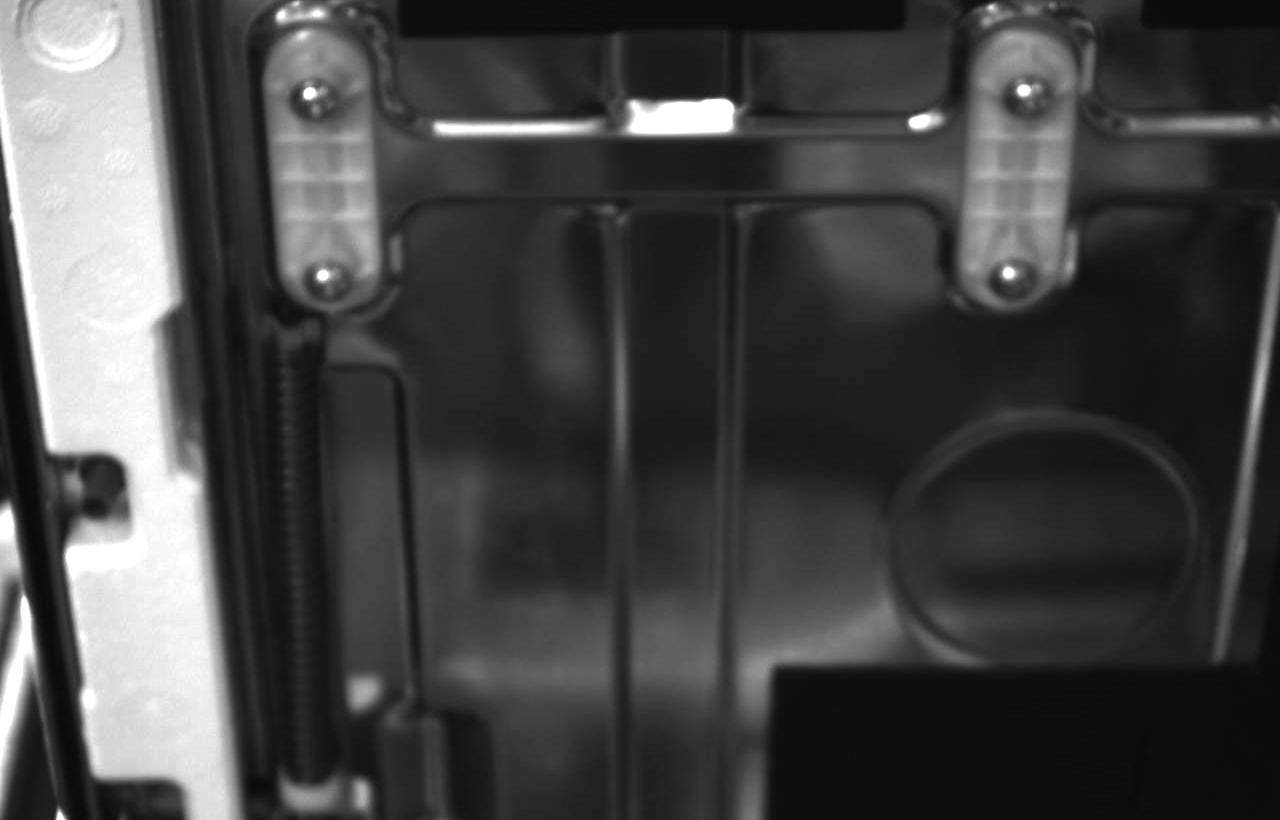vida-ok: (272, 56, 359, 134), (986, 67, 1074, 140), (293, 249, 374, 313), (985, 252, 1060, 310)
